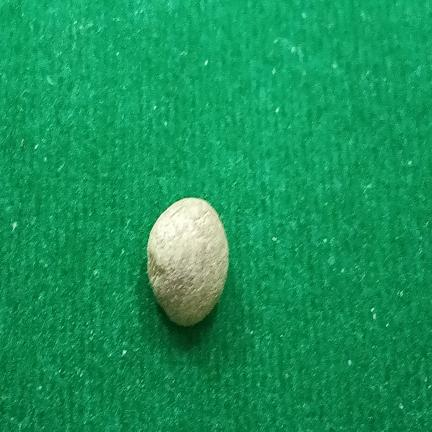good: (147, 198, 229, 326)
